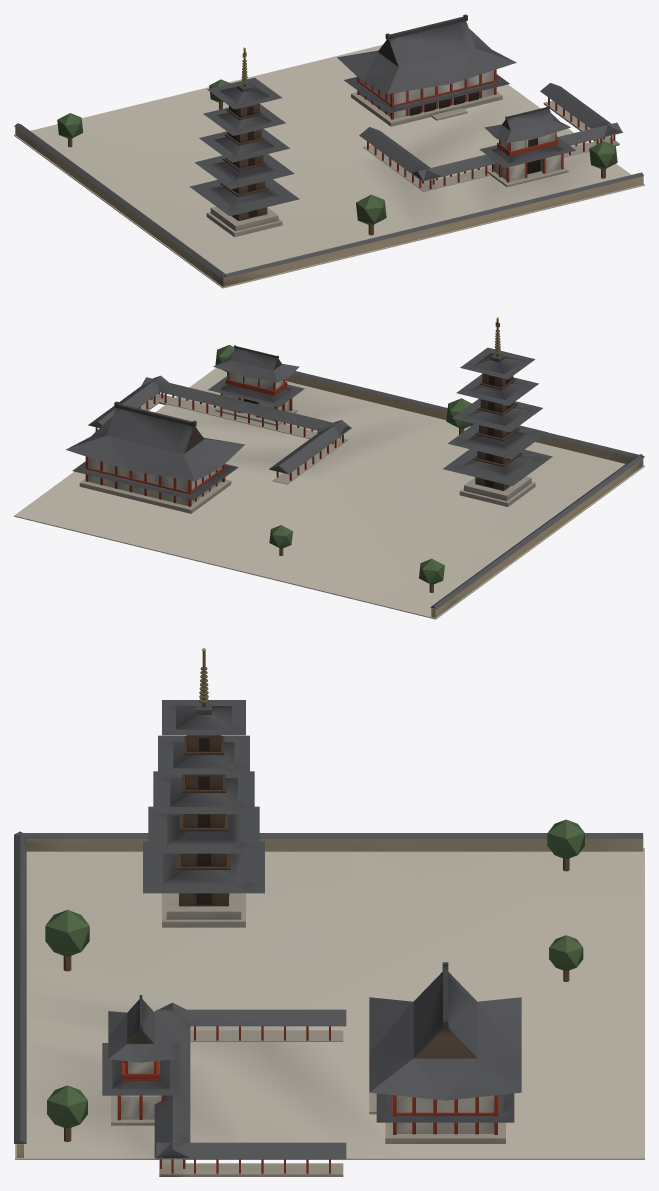
The model's file is saiji.glb.
3 renders of one model, top to bottom at view 1: azimuth 30°, elevation 25°; view 2: azimuth 150°, elevation 25°; view 3: azimuth 270°, elevation 25°, orthographic. The views are drawn at different scales.
Visible parts, largest first — view 1: p0_grounds, p2_pagoda, p1_halls; view 2: p0_grounds, p2_pagoda, p1_halls; view 3: p0_grounds, p2_pagoda, p1_halls.
Boxes of the visible parts, box(x1,y1,x2,y2) form: p0_grounds: box(14, 45, 644, 288); p2_pagoda: box(189, 14, 575, 231); p1_halls: box(57, 69, 622, 235); p0_grounds: box(14, 368, 644, 619); p2_pagoda: box(66, 317, 552, 501); p1_halls: box(79, 345, 473, 592); p0_grounds: box(14, 831, 644, 1159); p2_pagoda: box(102, 648, 521, 1122); p1_halls: box(45, 819, 584, 1176).
Bounding box in the file's own units: 149 × 55.39 × 120.
